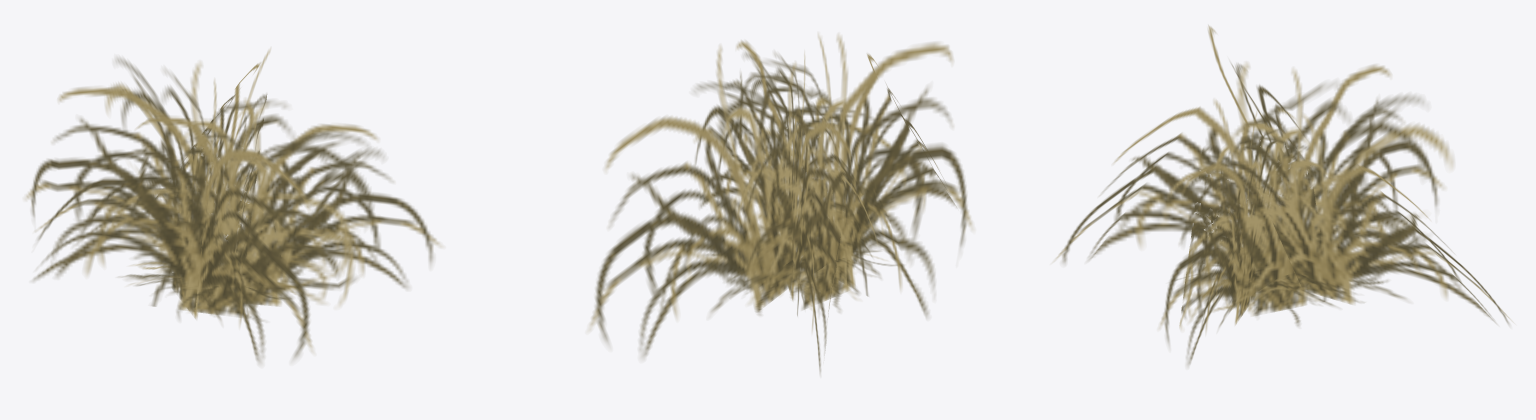
The model's file is ichu_04.glb.
The picture shows the model from 3 angles, left to right: view 1: azimuth 30°, elevation 25°; view 2: azimuth 150°, elevation 25°; view 3: azimuth 270°, elevation 25°; orthographic projection. The views are drawn at different scales.
Parts seen in each view (by area): view 1: Ichu; view 2: Ichu; view 3: Ichu.
Boxes of the visible parts, left/top/right/bottom form: Ichu: left=25, top=48, right=442, bottom=363; Ichu: left=588, top=34, right=972, bottom=373; Ichu: left=1054, top=25, right=1512, bottom=365.
Size of the model in its own units: 0.4204 by 0.31 by 0.5094.
1 material, 1 textured.
